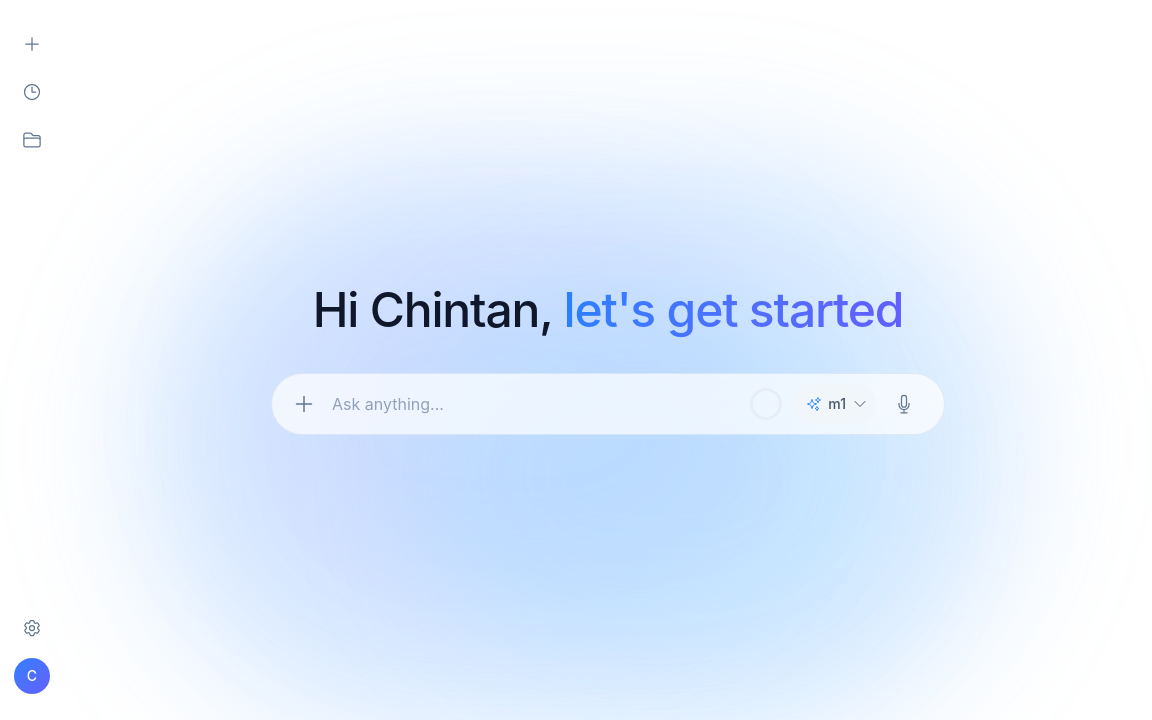
Scenario: the Files rail button switches to the Files page, and New chat switches back
Click the button named "Files": (32, 140) x1=12 y1=120 x2=52 y2=160
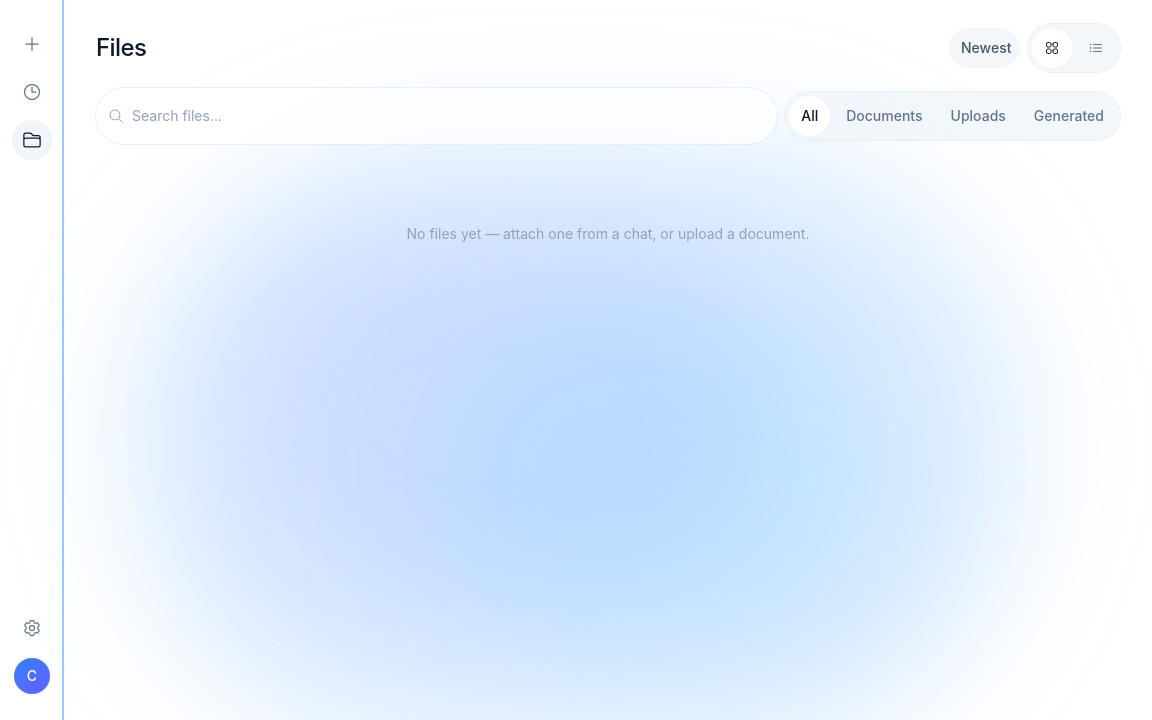
Expected: the heading "Files" is shown, x1=96 y1=32 x2=146 y2=64
Click the button named "New chat": (32, 44) x1=12 y1=24 x2=52 y2=64
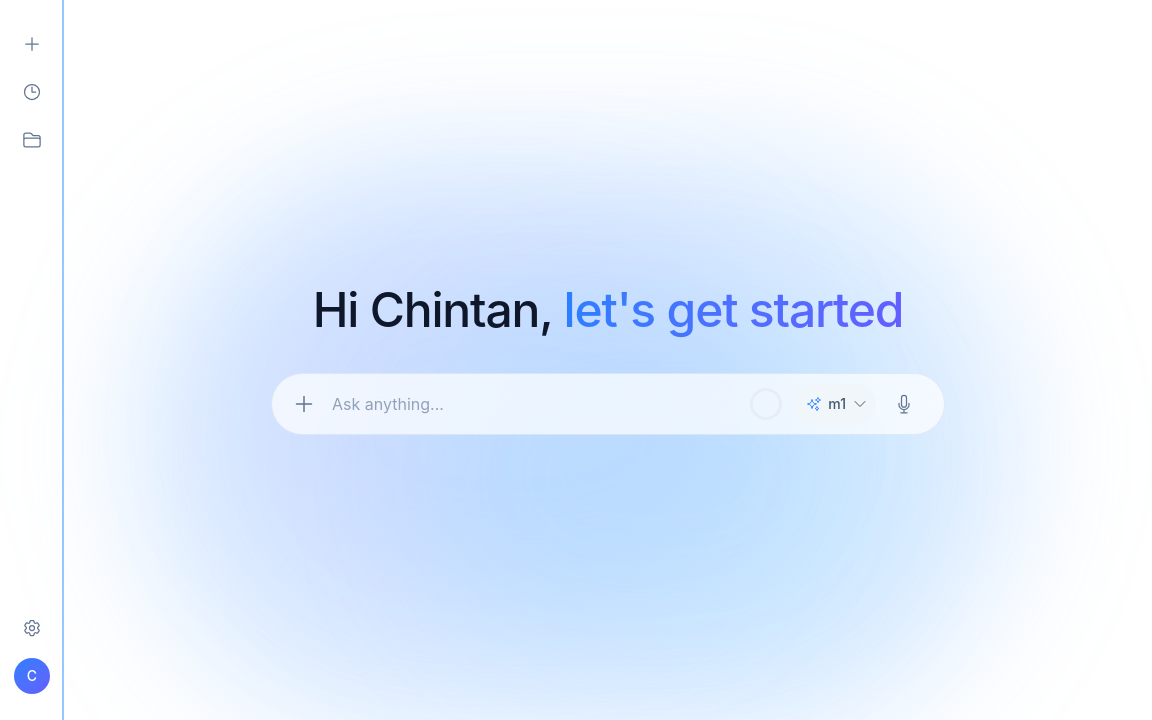
Expected: the heading "Files" is gone
